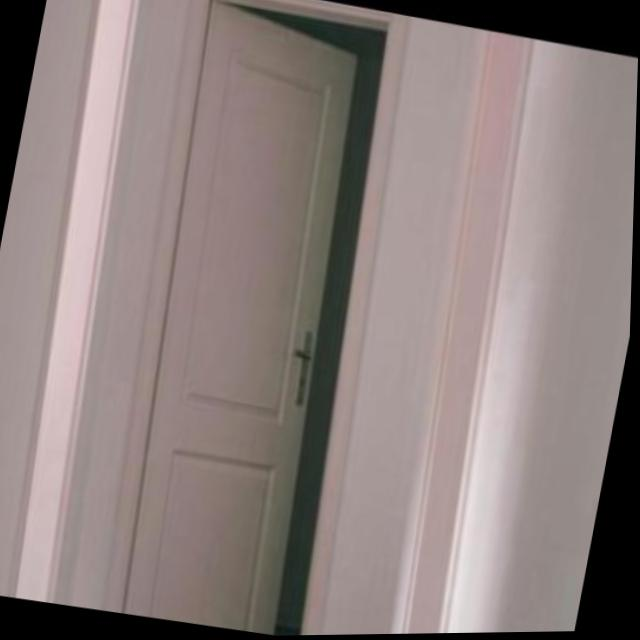door_handle: (285, 341, 323, 370)
